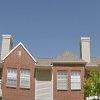Chimney: (70, 30, 97, 63)
